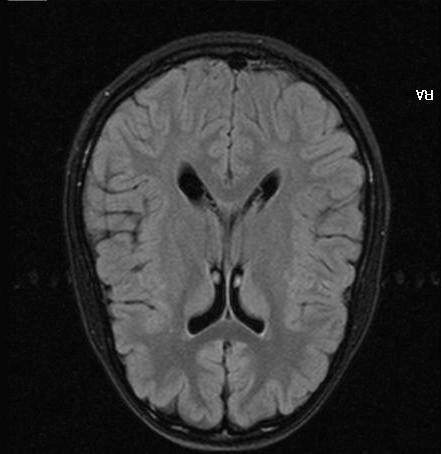Normal_Brain: (67, 64, 428, 454)
